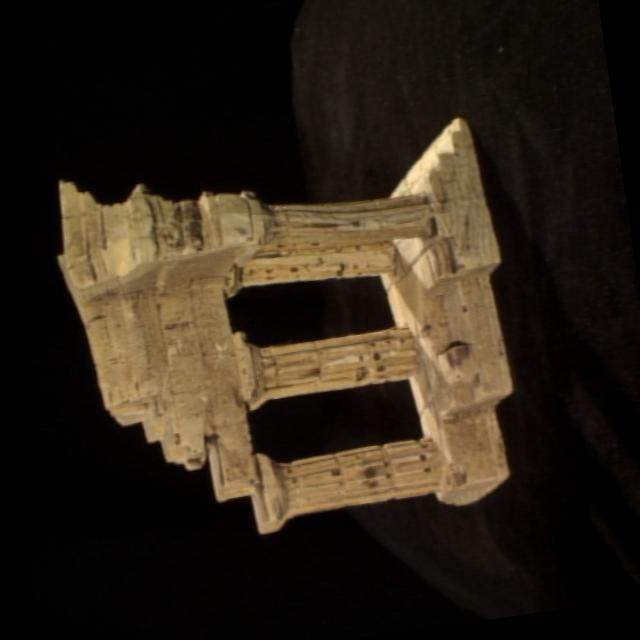Instance-Segmentation: (60, 118, 512, 532)
